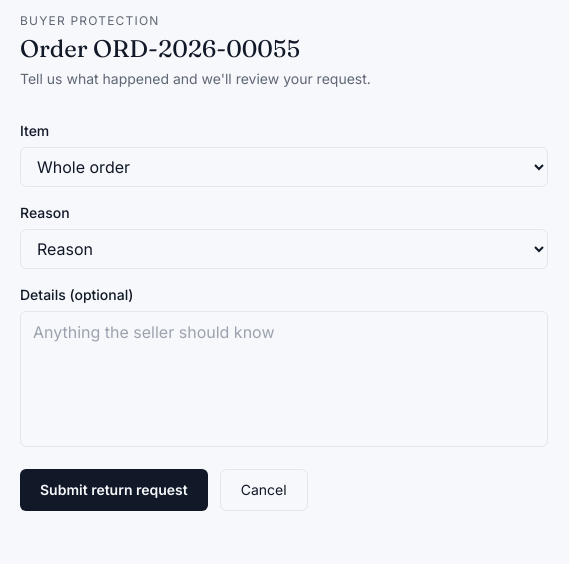
Test: NewReturn page › shows the server's message when submission fails
expect the heading "Order ORD-2026-00055" is shown: met, box x1=20 y1=34 x2=300 y2=63
Select "Other" in the dropdown labelled "Reason". click: (284, 249)
box: x1=20 y1=229 x2=548 y2=269
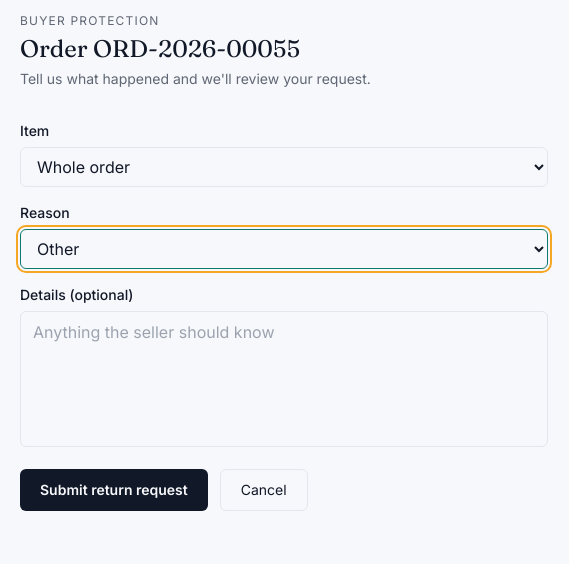
Click the button "Submit return request". click: (114, 490)
box: x1=20 y1=469 x2=208 y2=511
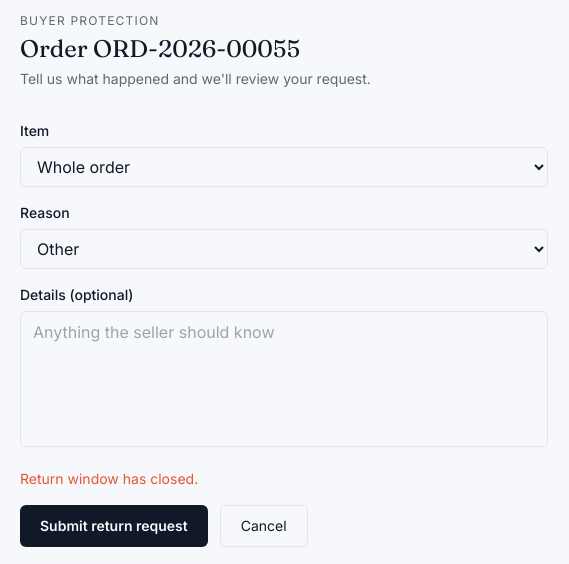
expect the text "Return window has closed." is shown: met, box x1=20 y1=470 x2=198 y2=487
